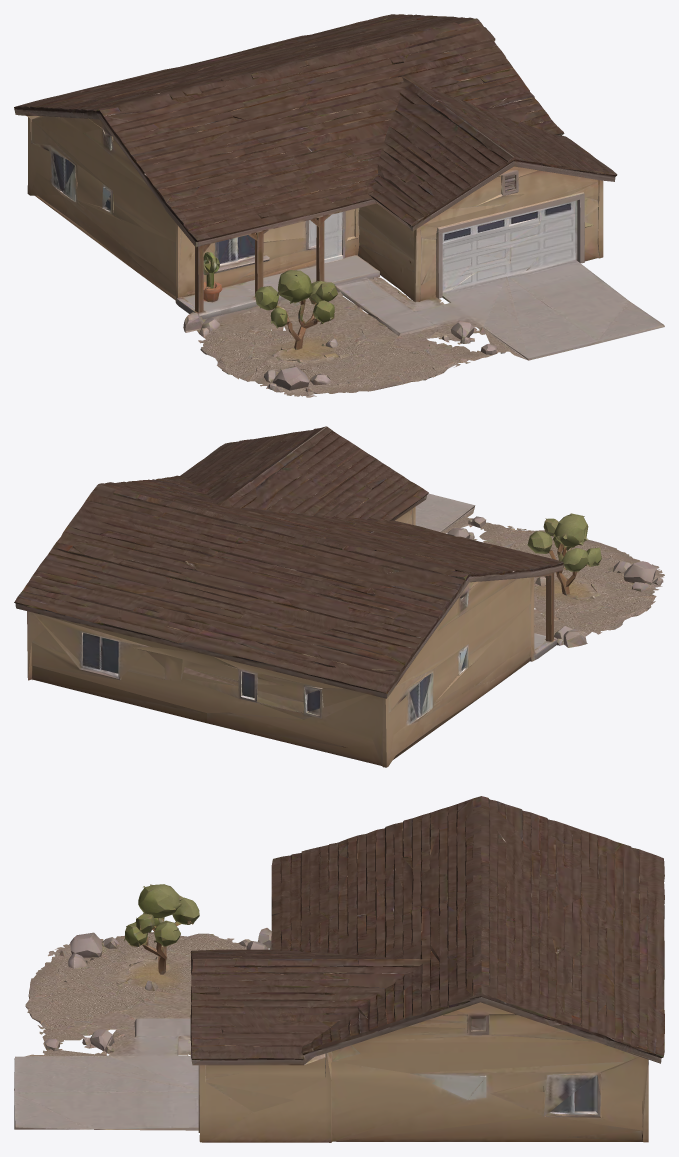
The model's file is house.glb.
The picture shows the model from 3 angles, top to bottom: view 1: azimuth 30°, elevation 25°; view 2: azimuth 150°, elevation 25°; view 3: azimuth 270°, elevation 25°; orthographic projection. The views are drawn at different scales.
Visible parts, largest first — view 1: placed; view 2: placed; view 3: placed.
Boxes of the visible parts, x1,y1,x2,y2 form: placed: (14, 14, 664, 397); placed: (14, 426, 664, 767); placed: (14, 796, 664, 1142).
Size of the model in its own units: 12.57 by 4.15 by 16.
1 material, 1 textured.
